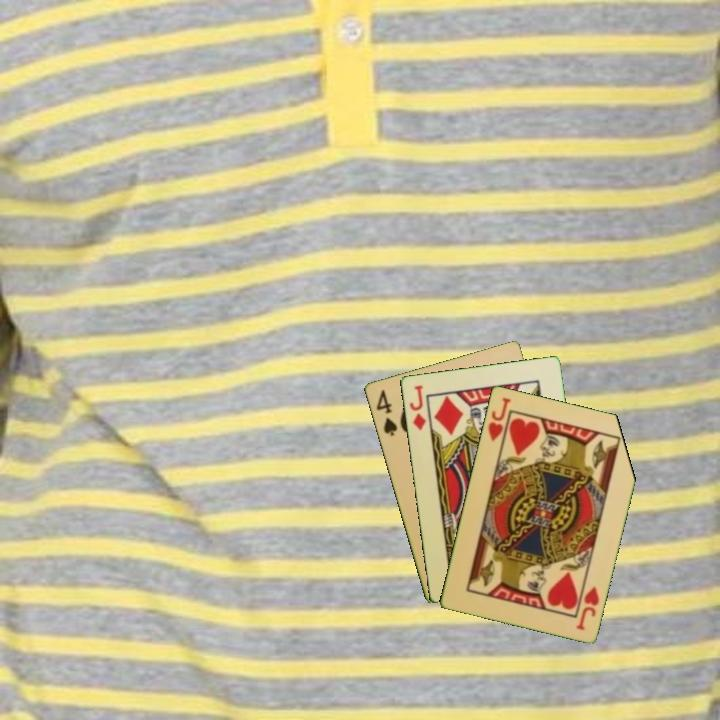4s: (372, 385, 400, 439)
Jd: (406, 381, 429, 433)
Jh: (484, 393, 514, 450), (572, 582, 602, 633)
